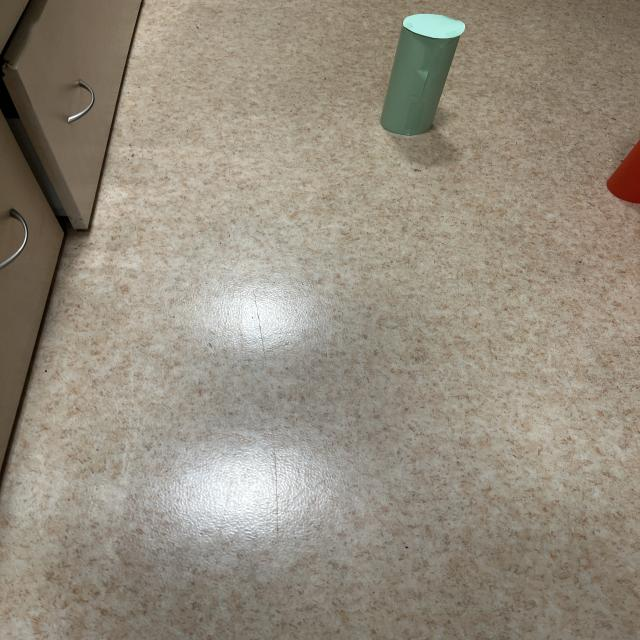meta: (381, 14, 465, 135)
